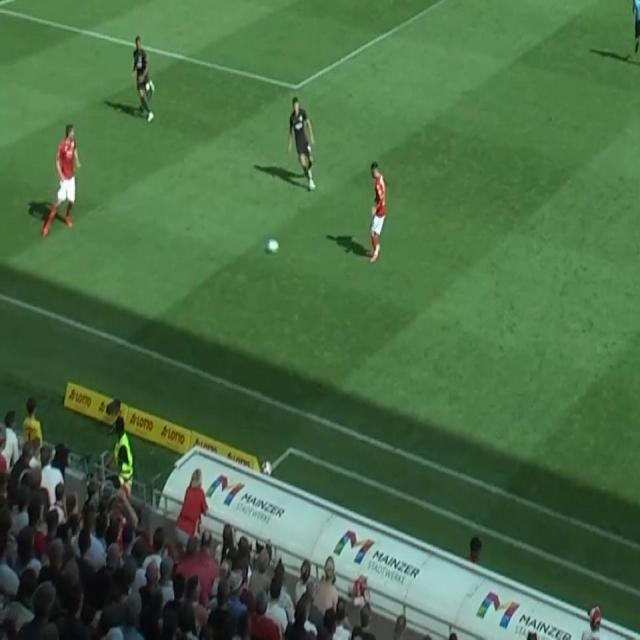ball: (266, 237, 280, 255)
